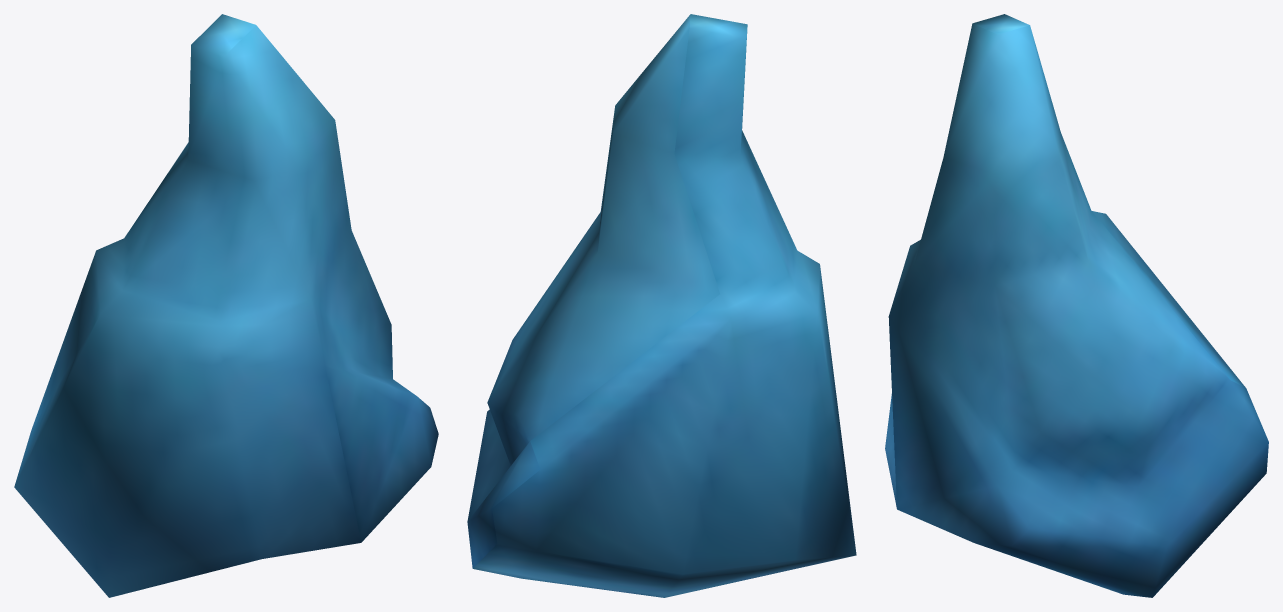
Rendered from Stage_BingYuan_BingLing09.FBX.
3 renders of one model, left to right at view 1: azimuth 30°, elevation 25°; view 2: azimuth 150°, elevation 25°; view 3: azimuth 270°, elevation 25°, orthographic. The views are drawn at different scales.
Visible parts, largest first — view 1: Stage_BingYuan_BingLing09; view 2: Stage_BingYuan_BingLing09; view 3: Stage_BingYuan_BingLing09.
Part boxes in pixels (<box>): Stage_BingYuan_BingLing09: <box>14,14,438,597</box>; Stage_BingYuan_BingLing09: <box>467,14,856,597</box>; Stage_BingYuan_BingLing09: <box>885,14,1268,597</box>.
Size of the model in its own units: 37.23 by 55.25 by 36.63.
